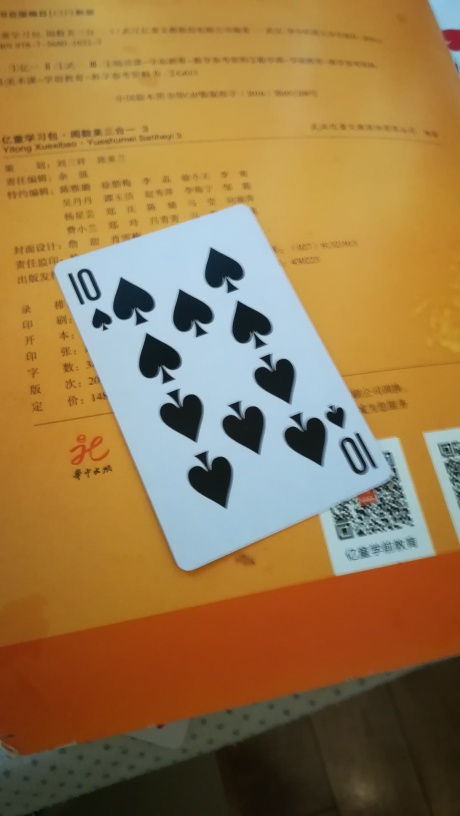ht 10: (50, 200, 396, 574)
